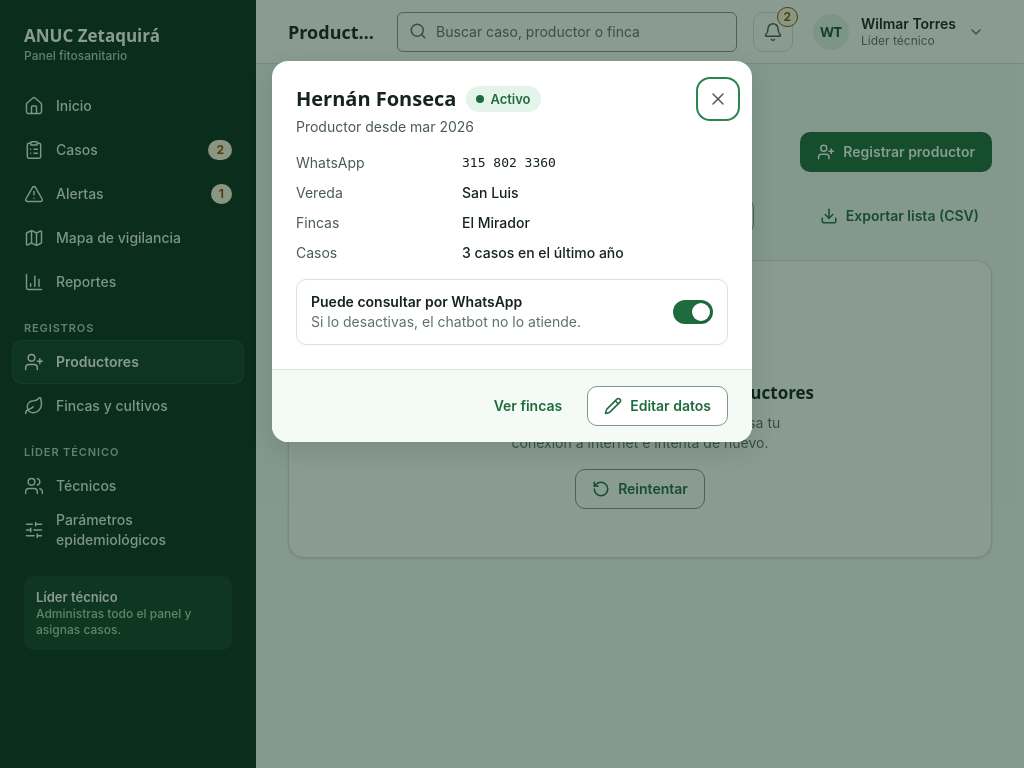
it: Productores › edita desde la ficha y pide confirmar si se deshabilita
The width and height of the screenshot is (1024, 768).
Click the button "Editar datos".
click(658, 406)  # box top-left (587, 386), bottom-right (728, 426)
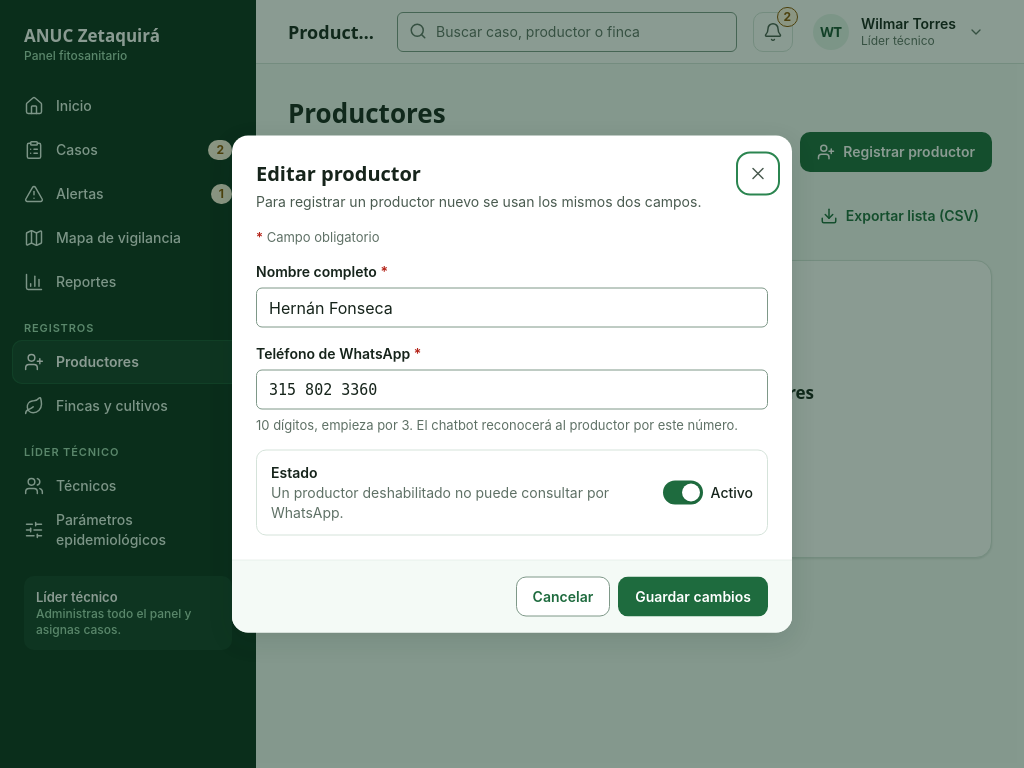
Now the field labelled "Teléfono de WhatsApp *" holds "315 802 3360", box top-left (256, 370), bottom-right (768, 410)
Click the switch named "Productor activo".
click(683, 492)  # box top-left (663, 480), bottom-right (703, 504)
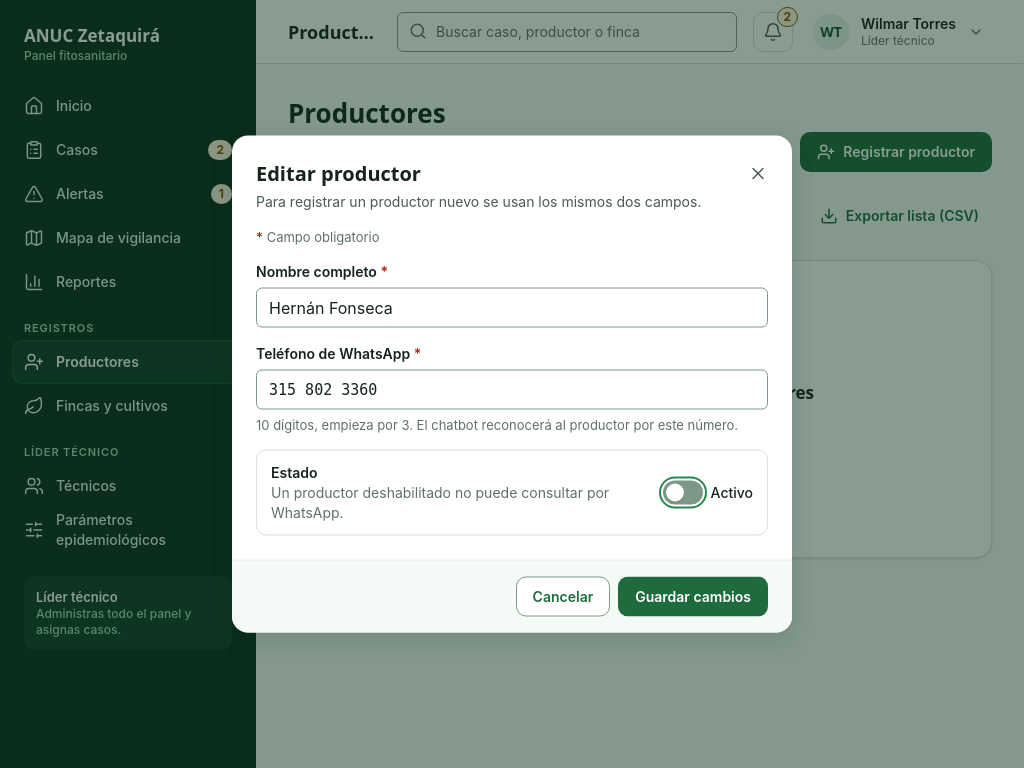
Click the button "Guardar cambios".
click(693, 596)  # box top-left (618, 576), bottom-right (768, 616)
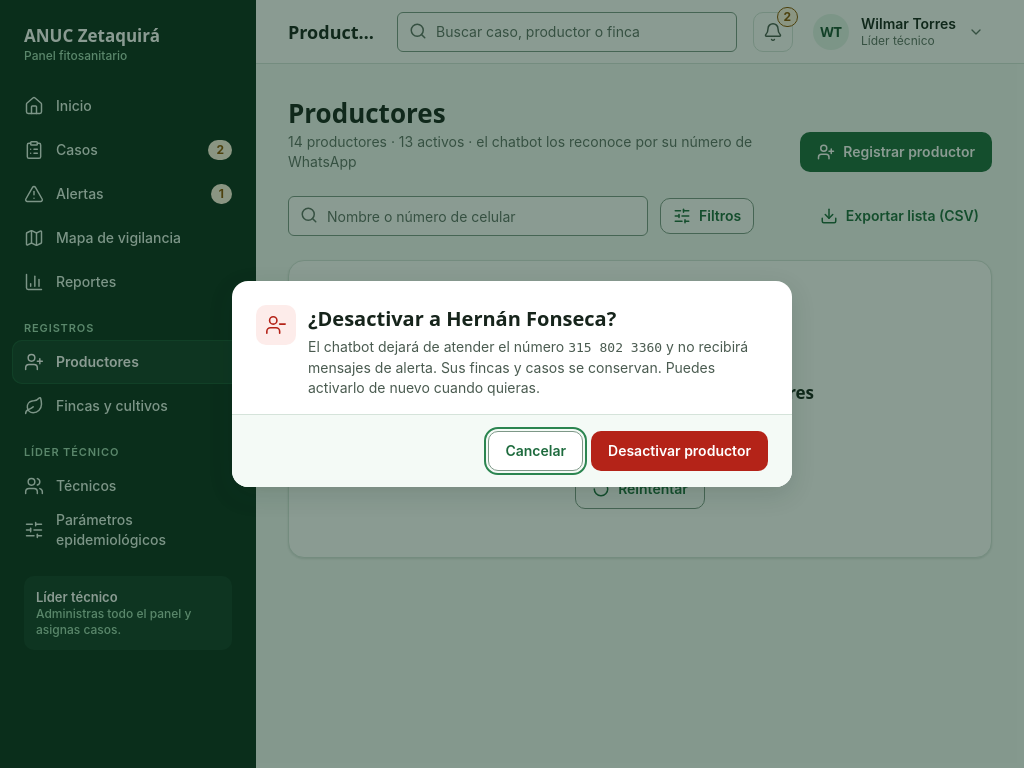
Now the dialog "¿Desactivar a Hernán Fonseca?" is shown, box top-left (232, 281), bottom-right (792, 487)
Click the button "Desactivar productor".
click(680, 451)  # box top-left (591, 431), bottom-right (768, 471)
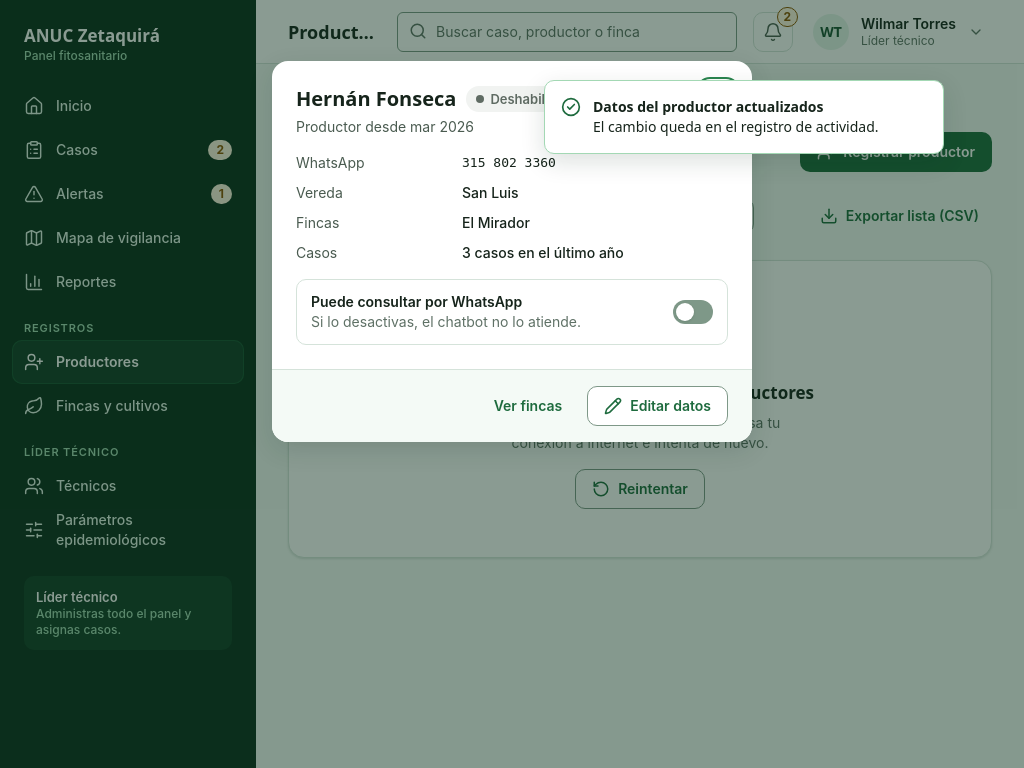
Now the text "Datos del productor actualizados" is shown, box top-left (593, 97), bottom-right (824, 116)
